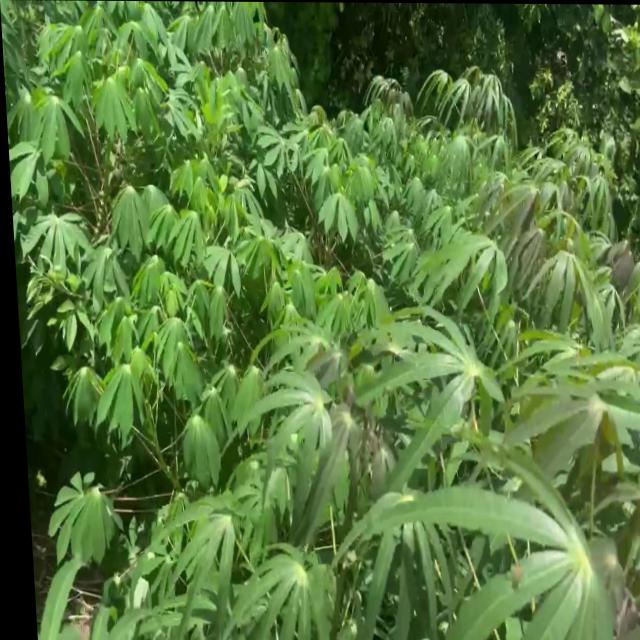Mosca: (385, 484, 421, 514), (499, 559, 525, 594), (433, 315, 450, 339), (141, 545, 161, 563), (378, 233, 396, 252)
